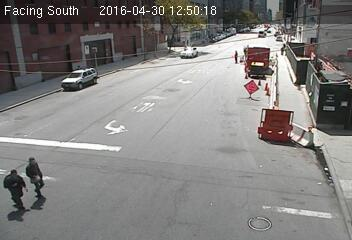neg: (116, 124, 146, 165), (233, 68, 261, 105), (183, 133, 211, 170), (261, 122, 282, 150), (145, 43, 165, 71)
pos: (8, 149, 52, 207), (227, 46, 241, 65), (277, 42, 287, 56)
